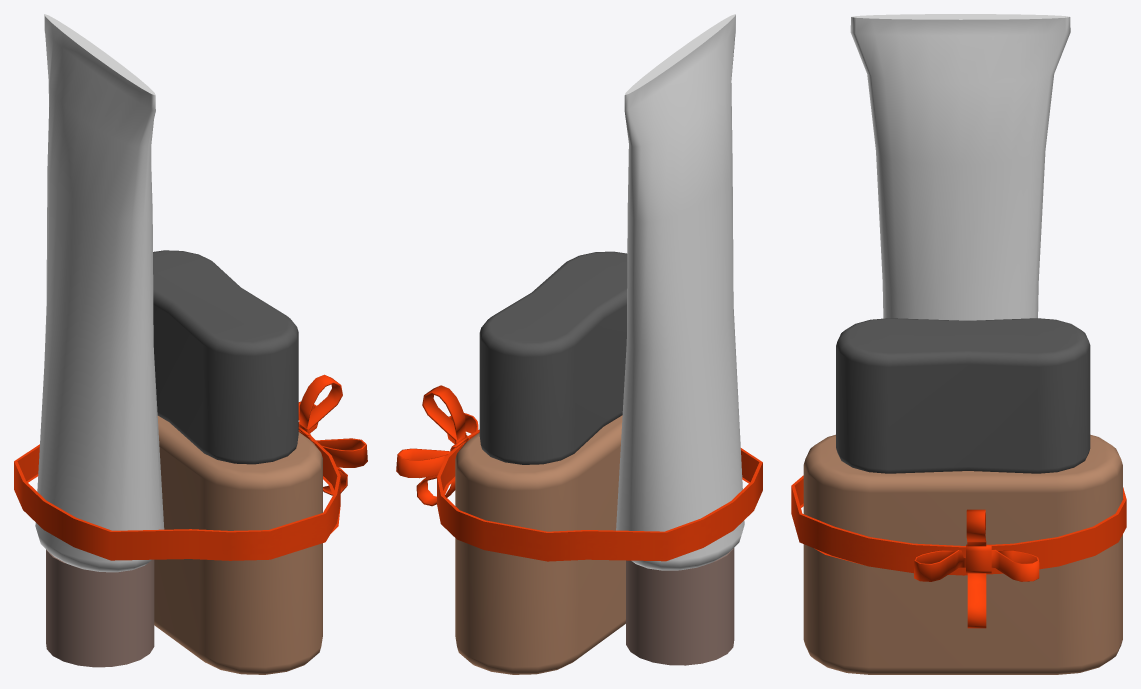
Rendered from Beauty_Gift_Box_012.fbx.
3 views of the same model, side by side, from view 1: azimuth 30°, elevation 25°; view 2: azimuth 150°, elevation 25°; view 3: azimuth 270°, elevation 25° (orthographic).
Visible parts, largest first — view 1: Beauty_Gift_Box_012; view 2: Beauty_Gift_Box_012; view 3: Beauty_Gift_Box_012.
Boxes of the visible parts, x1,y1,x2,y2 form: Beauty_Gift_Box_012: (14,14,367,674); Beauty_Gift_Box_012: (396,14,762,674); Beauty_Gift_Box_012: (791,14,1126,674).
Bounding box in the file's own units: 20.91 × 38.49 × 20.11.
